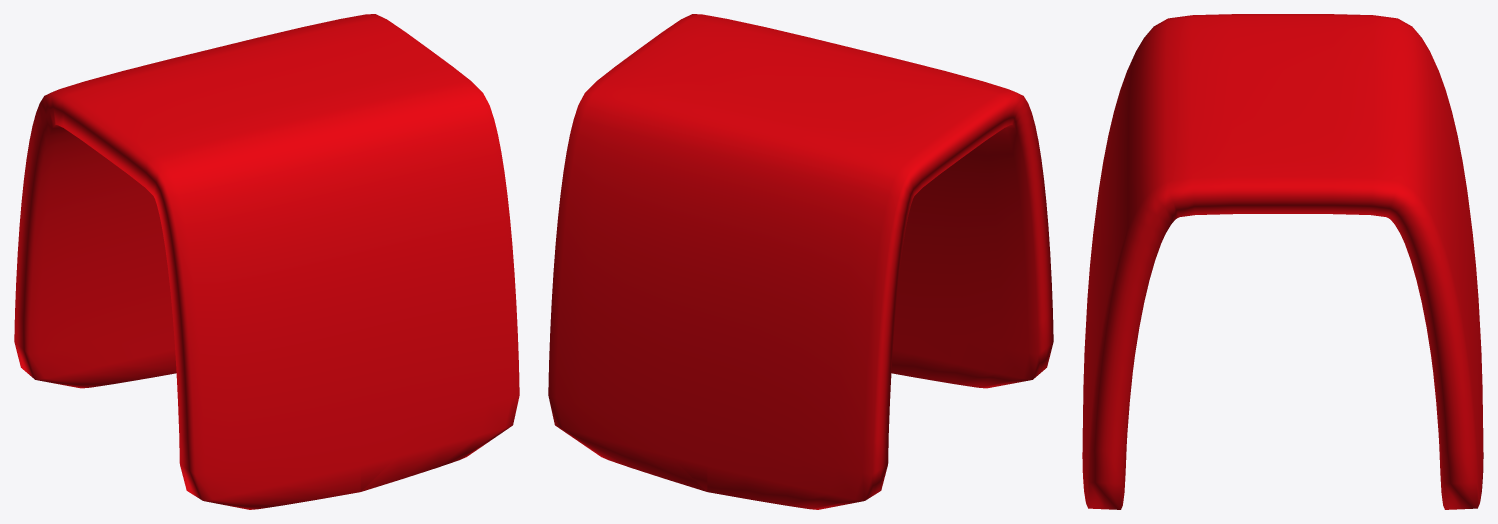
Rendered from Goal.glb.
3 renders of one model, left to right at view 1: azimuth 30°, elevation 25°; view 2: azimuth 150°, elevation 25°; view 3: azimuth 270°, elevation 25°, orthographic. The views are drawn at different scales.
Parts seen in each view (by area): view 1: Cube.006; view 2: Cube.006; view 3: Cube.006.
Part boxes in pixels (x1,y1,x2,y2): Cube.006: (14,14,519,509); Cube.006: (548,14,1053,509); Cube.006: (1082,14,1483,509).
Bounding box in the file's own units: 1 × 1 × 1.
Materials: 1 (1 with a texture image).
